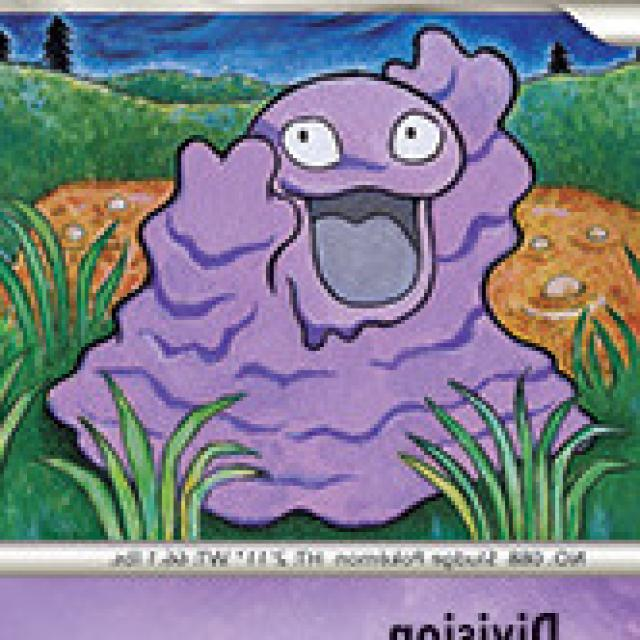Grimer: (137, 69, 528, 480)
